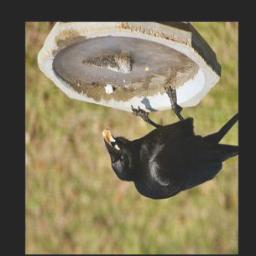Crow: (102, 84, 238, 202)
